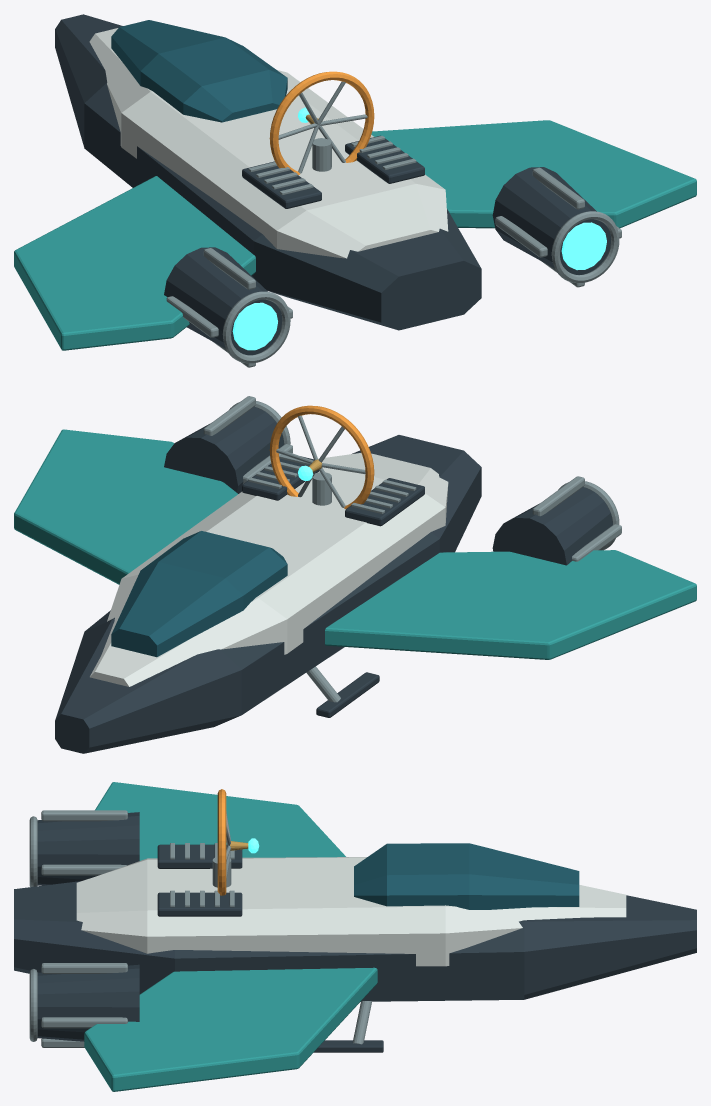
The model's file is kimu_survey_ship.glb.
3 renders of one model, top to bottom at view 1: azimuth 30°, elevation 25°; view 2: azimuth 150°, elevation 25°; view 3: azimuth 270°, elevation 25°, orthographic. The views are drawn at different scales.
Visible parts, largest first — view 1: kimu_survey_ship_mesh, Survey_antenna_mesh; view 2: kimu_survey_ship_mesh, Survey_antenna_mesh; view 3: kimu_survey_ship_mesh, Survey_antenna_mesh.
Part boxes in pixels (x1,y1,x2,y2): kimu_survey_ship_mesh: [14, 14, 696, 367]; Survey_antenna_mesh: [269, 71, 374, 174]; kimu_survey_ship_mesh: [14, 396, 696, 753]; Survey_antenna_mesh: [269, 405, 374, 508]; kimu_survey_ship_mesh: [14, 782, 696, 1091]; Survey_antenna_mesh: [217, 789, 259, 895].
Size of the model in its own units: 8.88 by 3.03 by 8.7.
